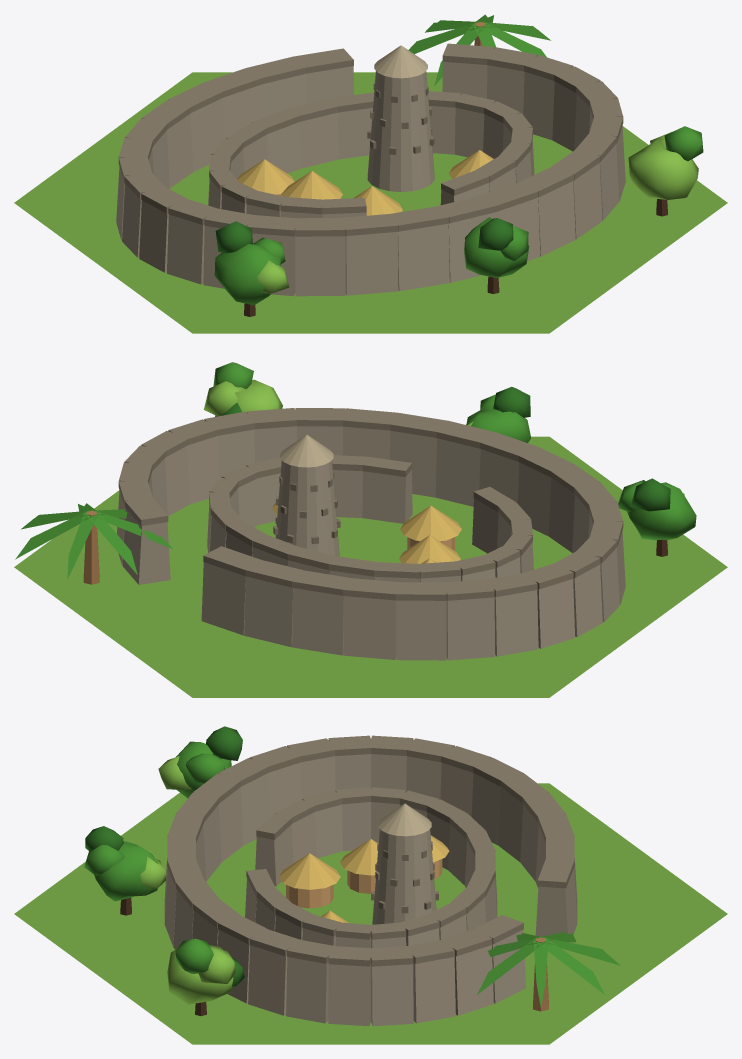
File: wonder_great_zimbabwe.fbx
3 renders of one model, top to bottom at view 1: azimuth 30°, elevation 25°; view 2: azimuth 150°, elevation 25°; view 3: azimuth 270°, elevation 25°, orthographic.
Visible parts, largest first — view 1: wonder_great_zimbabwe; view 2: wonder_great_zimbabwe; view 3: wonder_great_zimbabwe.
Boxes of the visible parts, x1,y1,x2,y2 form: wonder_great_zimbabwe: [14, 14, 727, 333]; wonder_great_zimbabwe: [14, 362, 727, 697]; wonder_great_zimbabwe: [14, 726, 727, 1044].
Bounding box in the file's own units: 182 × 43.4 × 210.
